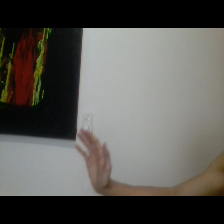left: (71, 127, 121, 193)
